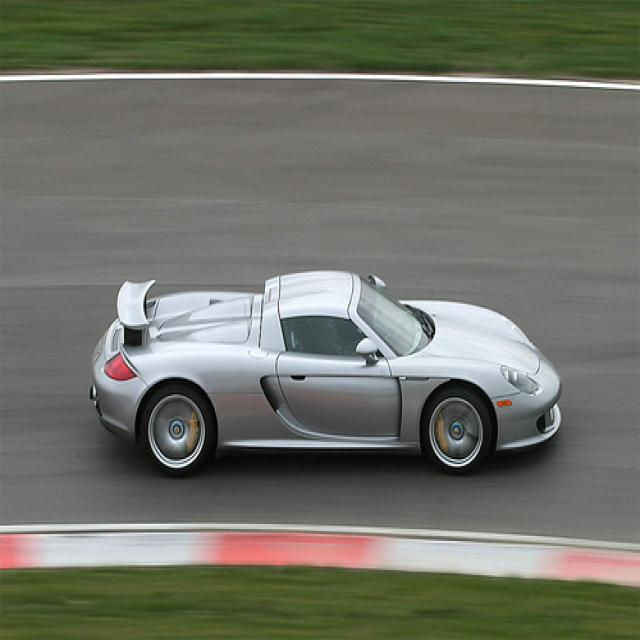car: (87, 267, 562, 479)
